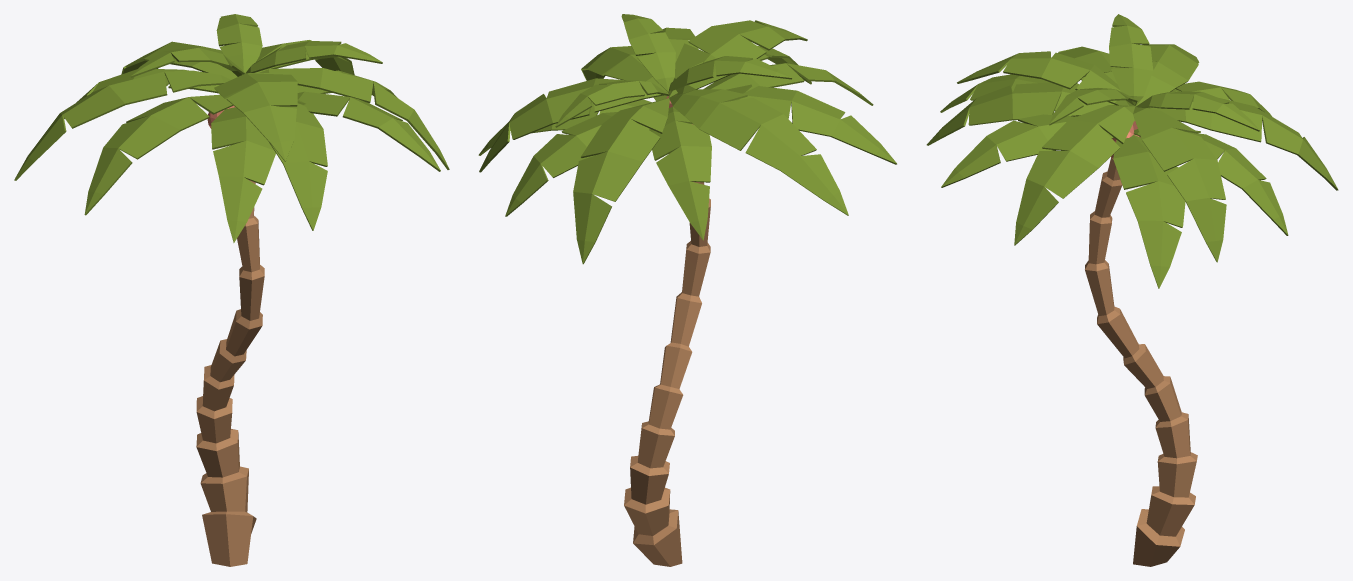
Rendered from Palm_2.fbx.
3 renders of one model, left to right at view 1: azimuth 30°, elevation 25°; view 2: azimuth 150°, elevation 25°; view 3: azimuth 270°, elevation 25°, orthographic. The views are drawn at different scales.
Parts seen in each view (by area): view 1: Palm_2.001; view 2: Palm_2.001; view 3: Palm_2.001.
Boxes of the visible parts, x1,y1,x2,y2 form: Palm_2.001: (14, 14, 449, 566); Palm_2.001: (478, 14, 896, 566); Palm_2.001: (926, 14, 1338, 566).
Bounding box in the file's own units: 4.06 × 5.2 × 3.87.
